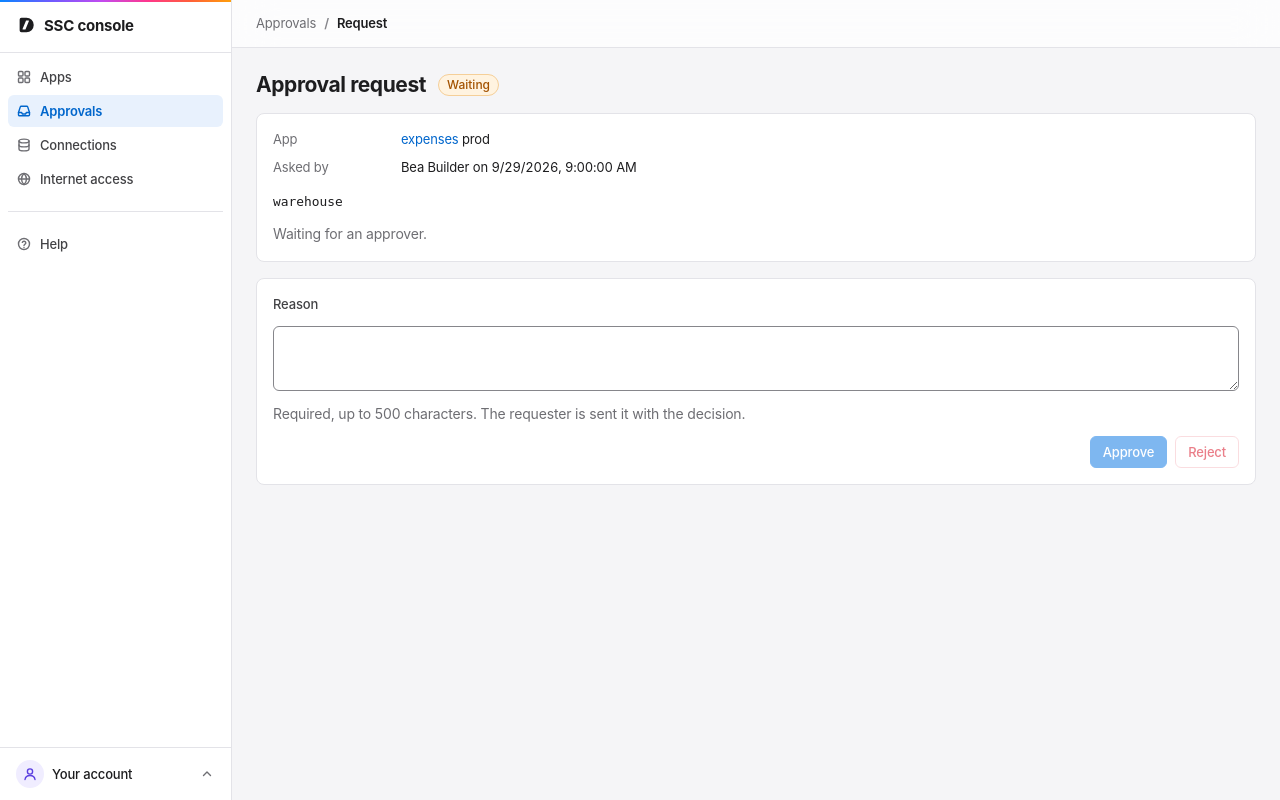
approval detail › rejects with the reason
Type "Too broad" into the text box labelled "Reason" at point(756, 359), box [273,326,1239,391]
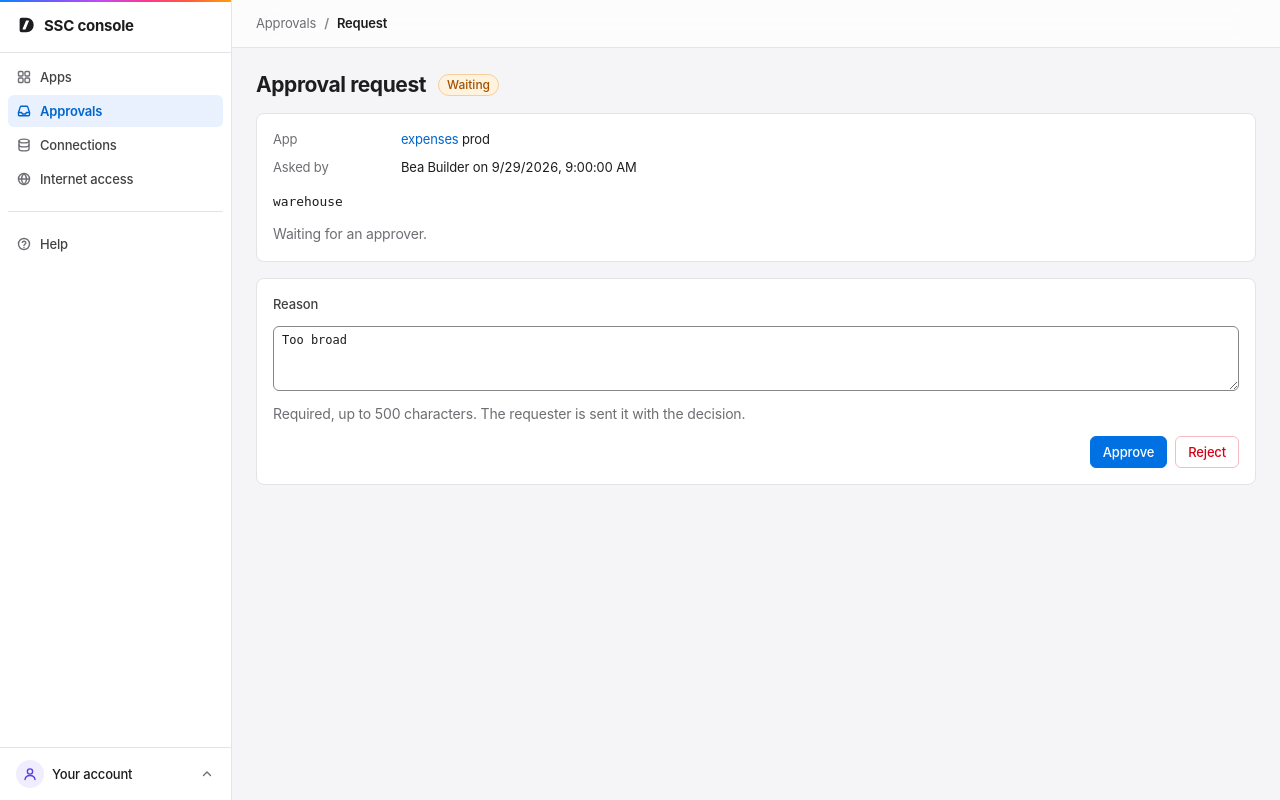
Click the button "Reject" at point(1207, 452), box [1175,436,1239,468]
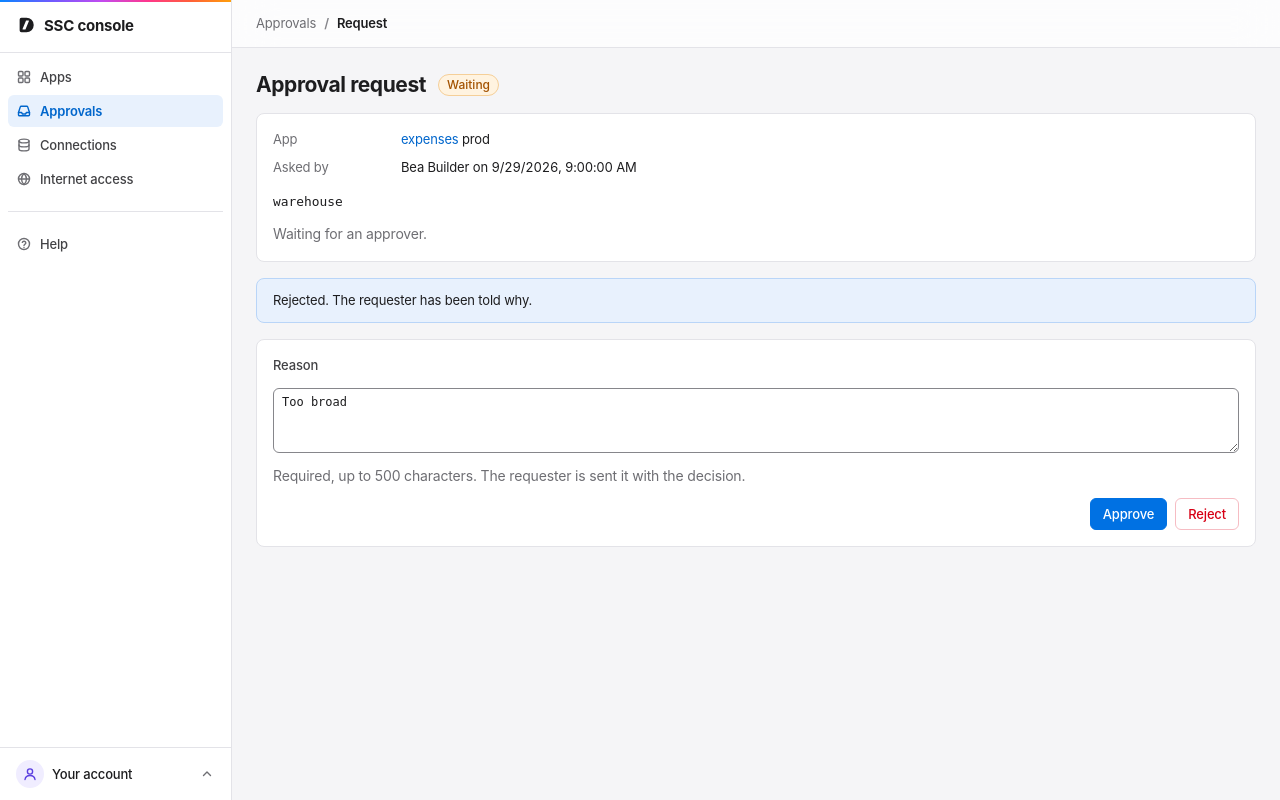
Expected: the text "Rejected. The requester has been told why." is shown, [273,290,532,310]
